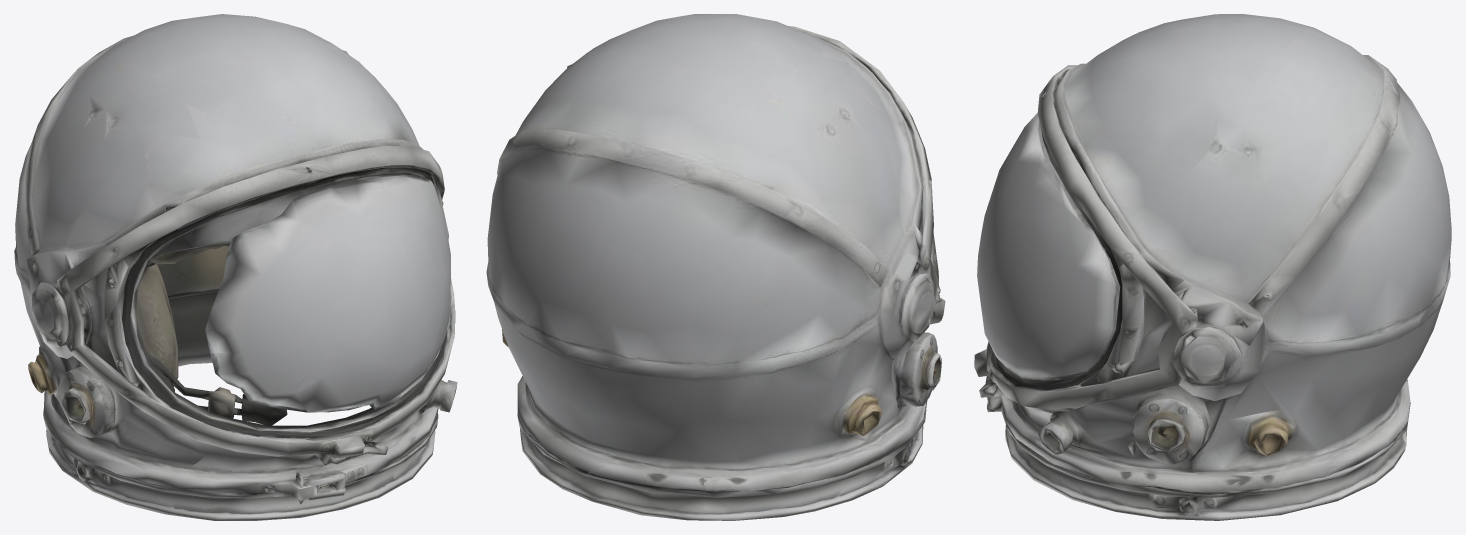
File: helmet_mercury.glb
3 views of the same model, side by side, from view 1: azimuth 30°, elevation 25°; view 2: azimuth 150°, elevation 25°; view 3: azimuth 270°, elevation 25° (orthographic). The views are drawn at different scales.
Parts seen in each view (by area): view 1: tripo_node_e9eef34e-cd94-4feb-96a2-a4aceb3949ca; view 2: tripo_node_e9eef34e-cd94-4feb-96a2-a4aceb3949ca; view 3: tripo_node_e9eef34e-cd94-4feb-96a2-a4aceb3949ca.
Part boxes in pixels (x1,y1,x2,y2): tripo_node_e9eef34e-cd94-4feb-96a2-a4aceb3949ca: [14, 14, 457, 520]; tripo_node_e9eef34e-cd94-4feb-96a2-a4aceb3949ca: [486, 14, 945, 520]; tripo_node_e9eef34e-cd94-4feb-96a2-a4aceb3949ca: [974, 14, 1451, 520].
Size of the model in its own units: 0.401 by 0.38 by 0.4081.
Materials: 1 (1 with a texture image).
